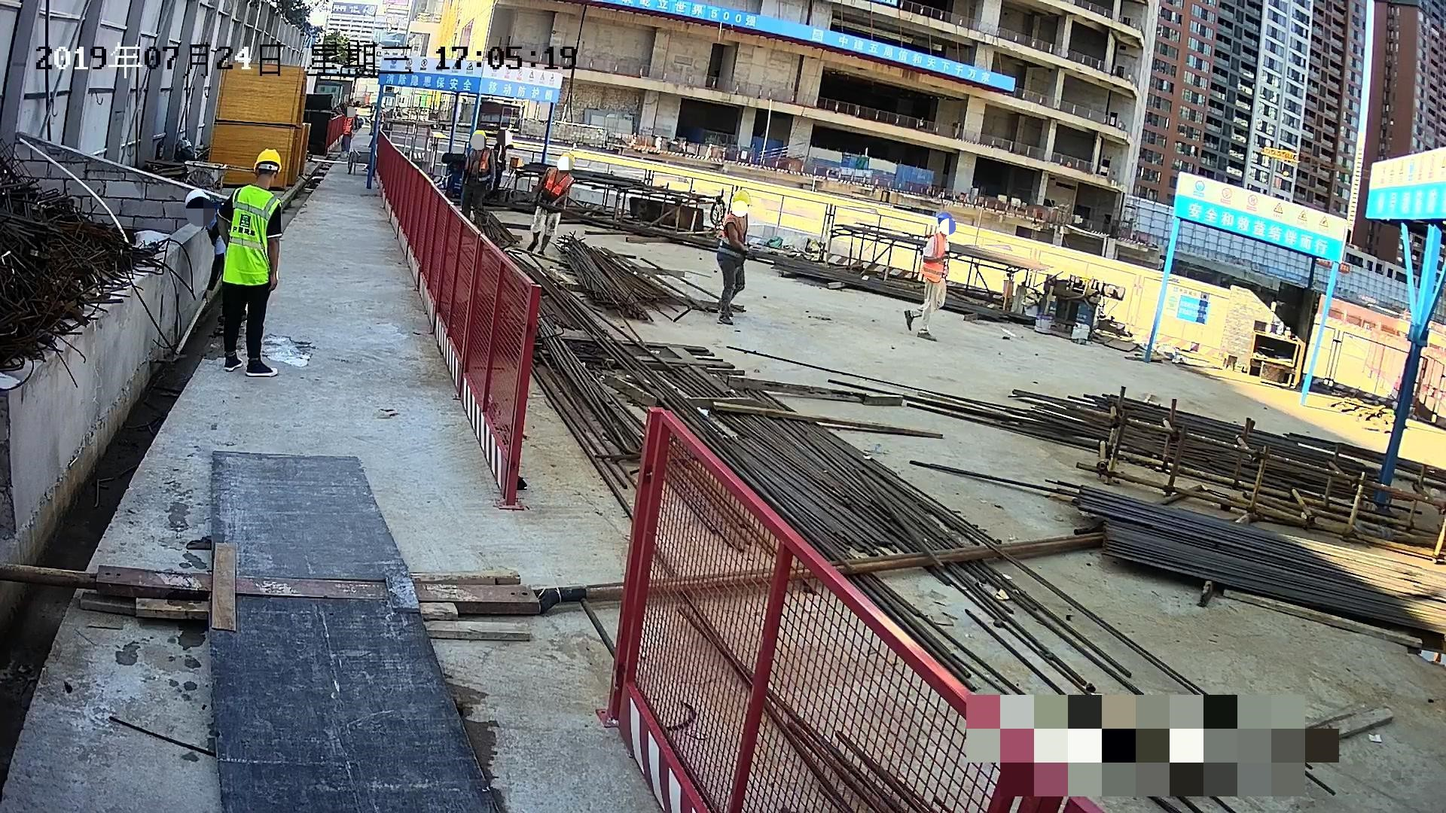hat: (182, 187, 212, 229), (252, 145, 284, 183), (729, 189, 754, 216), (933, 211, 956, 237), (470, 129, 489, 151), (560, 153, 576, 174), (498, 129, 514, 144), (346, 105, 355, 114)
person: (211, 146, 293, 383), (902, 206, 961, 347), (713, 187, 758, 330), (522, 151, 579, 256), (457, 129, 496, 227), (487, 126, 519, 197), (339, 105, 358, 157)
